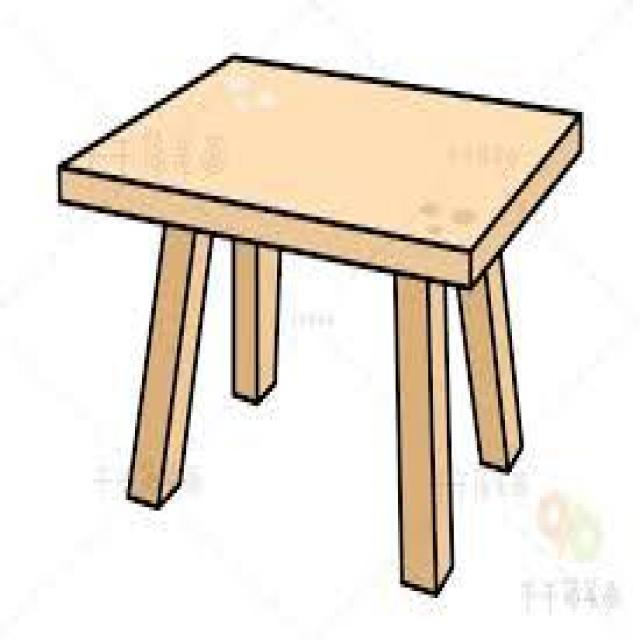table: (38, 47, 600, 610)
